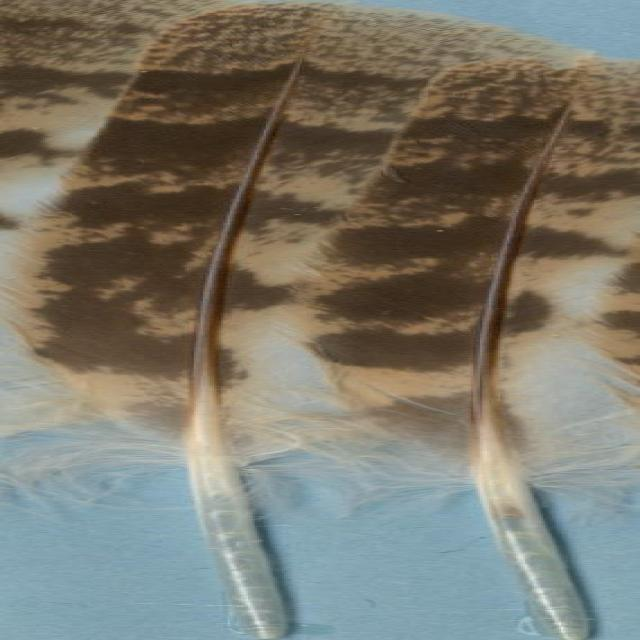feather: (0, 3, 563, 640), (308, 51, 640, 640)
